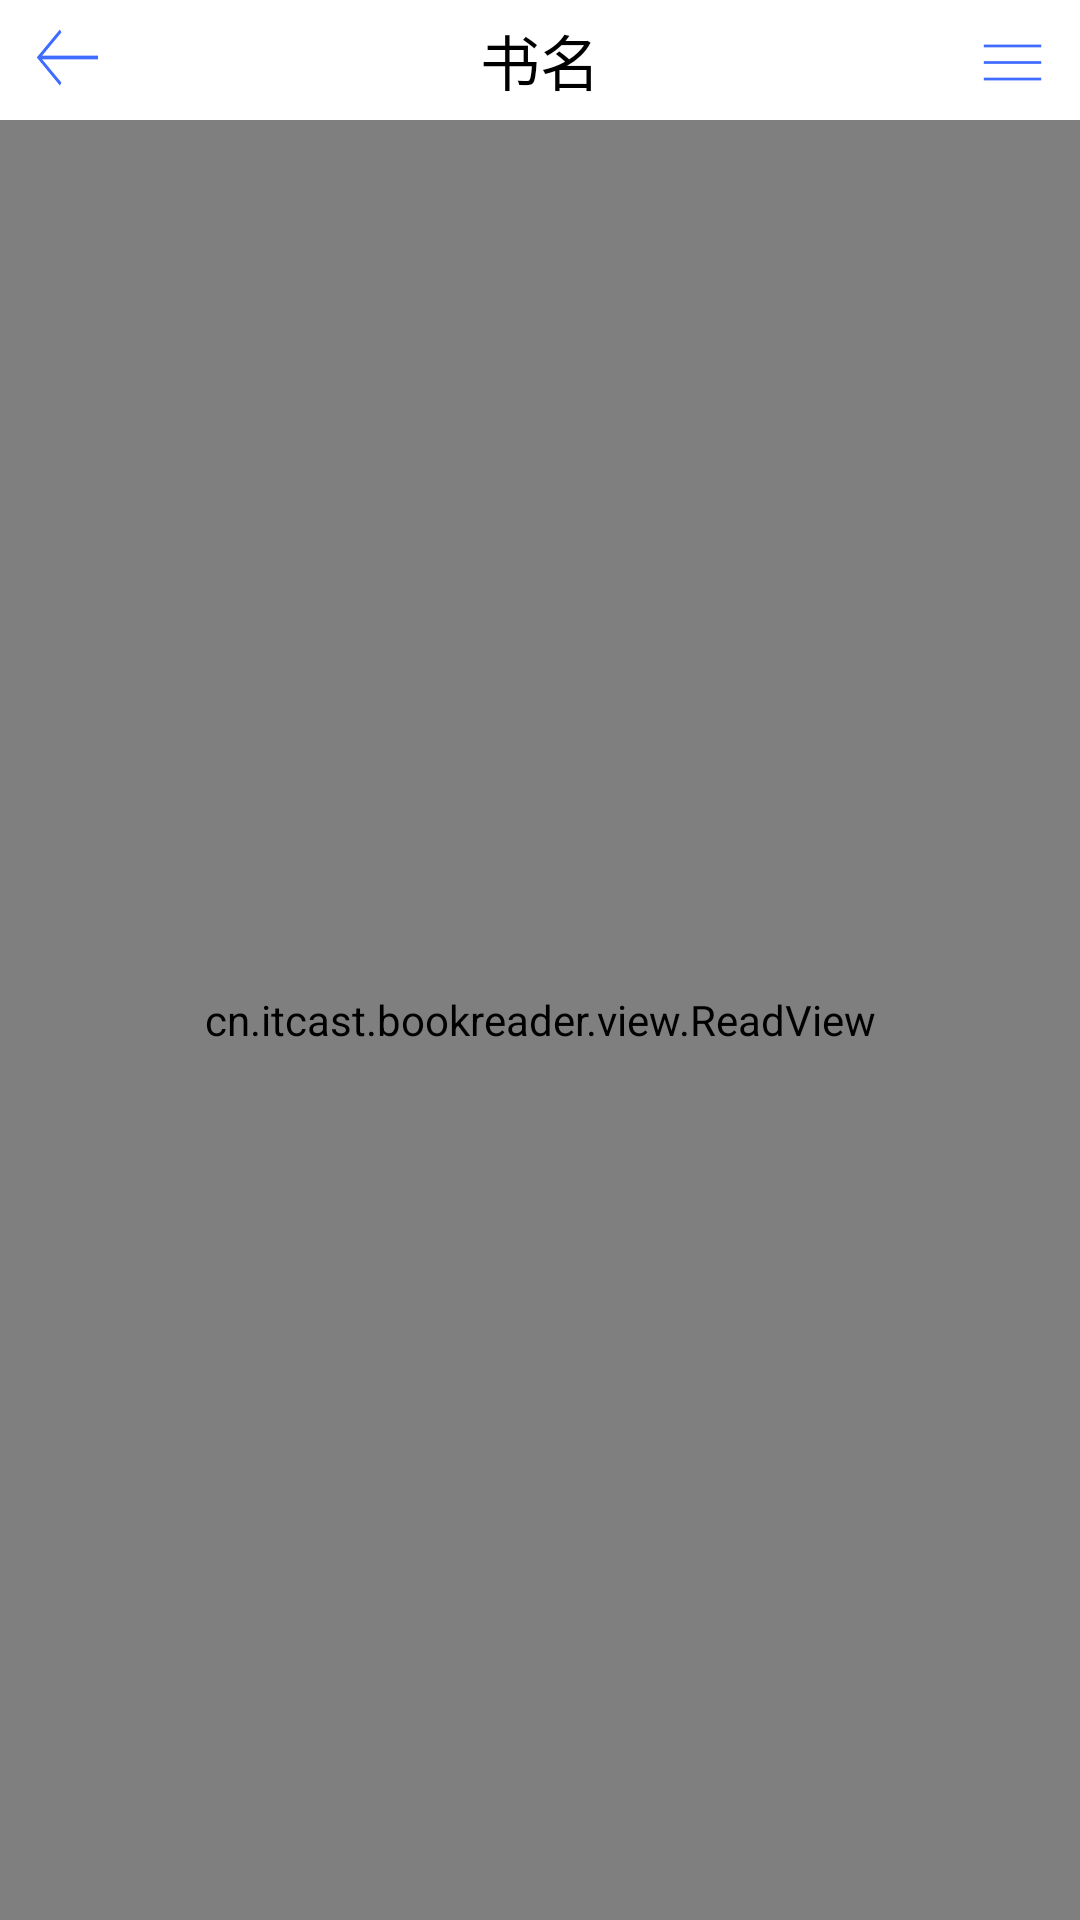

Icon bounding boxes for this 1080×1920 phone screenshot, format (left=x1, top=y1, right=x2, bottom=y2):
back: (left=37, top=29, right=98, bottom=86)
menu: (left=983, top=44, right=1042, bottom=81)
